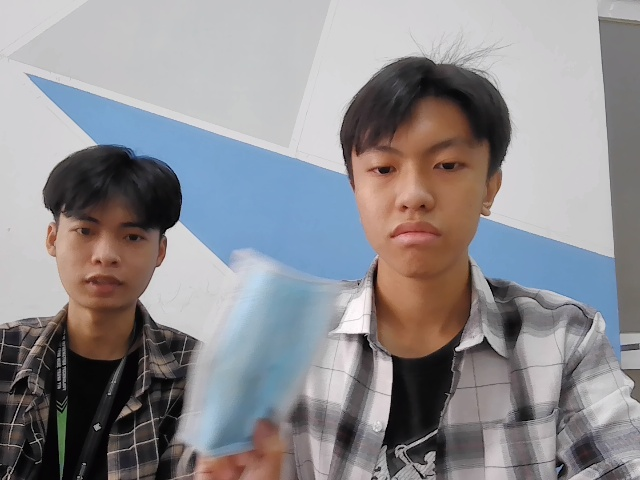human: (345, 64, 509, 272), (49, 141, 178, 311)
mask: (181, 252, 324, 463)
